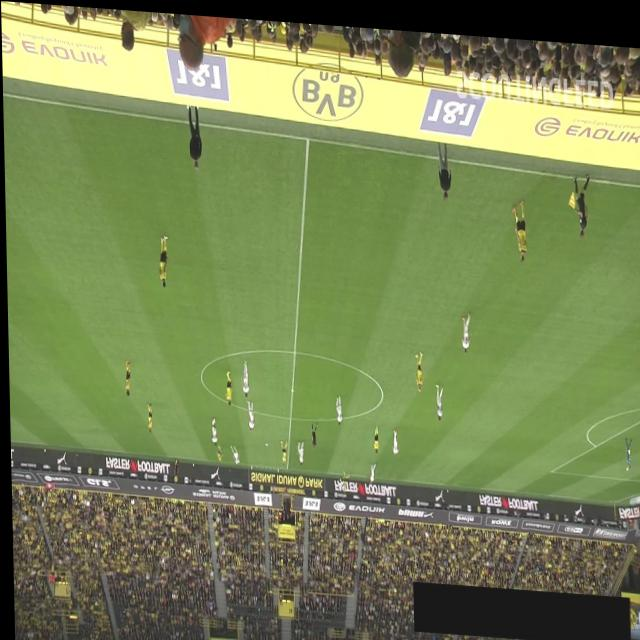goalkeeper: (622, 428, 630, 460)
player: (509, 190, 525, 254), (156, 231, 167, 285), (459, 303, 470, 346), (412, 344, 422, 386), (432, 376, 441, 414), (239, 356, 247, 394), (227, 439, 238, 464), (244, 395, 252, 427), (122, 358, 129, 394), (223, 367, 230, 402), (338, 463, 347, 488), (333, 389, 340, 420), (208, 413, 215, 443), (277, 435, 285, 460), (367, 454, 375, 478), (390, 420, 396, 451), (294, 435, 301, 461), (144, 400, 150, 430), (213, 439, 221, 461), (370, 419, 376, 447)
referee: (566, 163, 589, 228), (307, 416, 316, 444), (170, 453, 177, 477)
